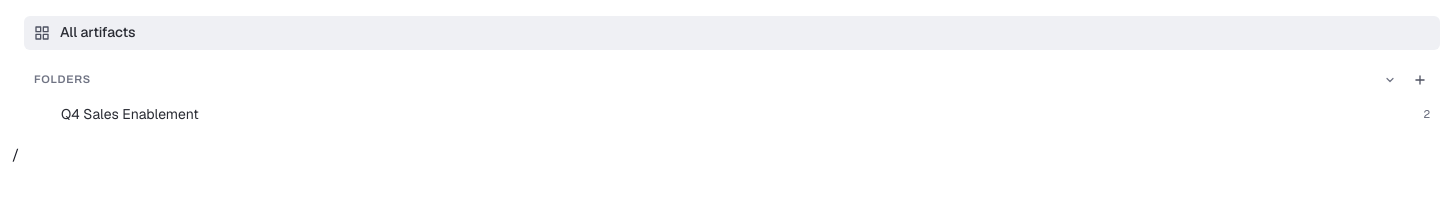
it: LibrarySidebar › opens a Project from its row
Click the link "Q4 Sales Enablement 2": (130, 114) [34,105,1430,124]
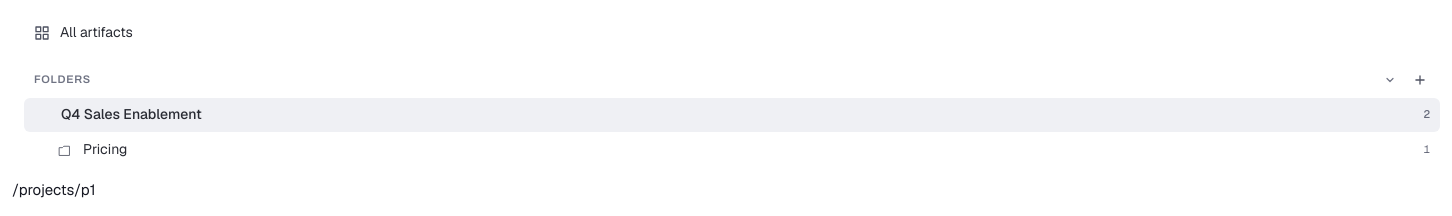
Now the text with test id "where" reads "/projects/p1", box [12,180,96,199]
